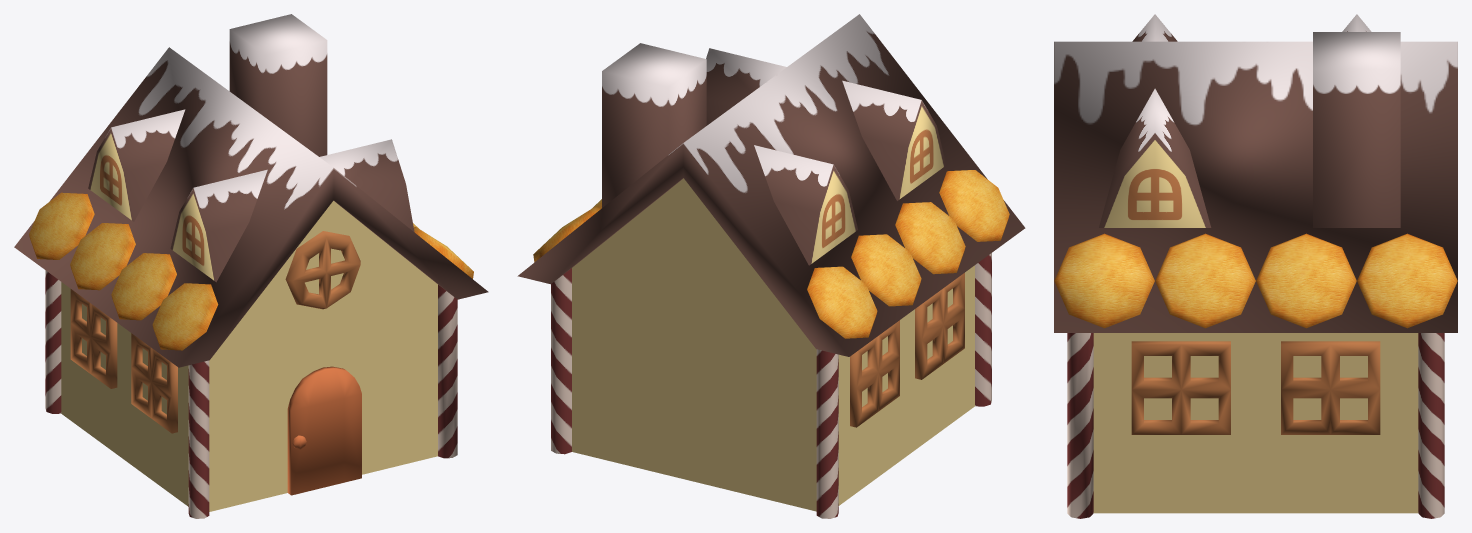
File: House.fbx
3 renders of one model, left to right at view 1: azimuth 30°, elevation 25°; view 2: azimuth 150°, elevation 25°; view 3: azimuth 270°, elevation 25°, orthographic. The views are drawn at different scales.
Parts seen in each view (by area): view 1: House, House_Yane, Entotsu, Door, House_YaneMado_R1, House_YaneMado_R2, Front_Window, House_YaneMado_L1, Hashira_R1, Hashira_L1, Cookie_R1, Cookie_R2 (+6 smaller); view 2: House, House_Yane, Entotsu, House_YaneMado_R1, House_YaneMado_R2, Hashira_R2, Hashira_L2, Cookie_R4, Cookie_R3, Cookie_R2, Cookie_R1, Window_R1 (+4 smaller); view 3: House_Yane, House, Entotsu, House_YaneMado_L1, Window_L1, Window_L2, Cookie_L1, Cookie_L2, Cookie_L3, Cookie_L4, Hashira_L1, Hashira_L2 (+1 smaller).
Part boxes in pixels (left/top/right/bottom): House: left=61, top=201, right=437, bottom=511; House_Yane: left=14, top=47, right=488, bottom=367; Entotsu: left=229, top=14, right=327, bottom=156; Door: left=287, top=366, right=361, bottom=495; House_YaneMado_R1: left=170, top=169, right=267, bottom=282; House_YaneMado_R2: left=88, top=109, right=185, bottom=221; Front_Window: left=285, top=231, right=360, bottom=309; House_YaneMado_L1: left=319, top=139, right=414, bottom=231; Hashira_R1: left=188, top=360, right=209, bottom=518; Hashira_L1: left=438, top=285, right=457, bottom=458; Cookie_R1: left=152, top=283, right=218, bottom=350; Cookie_R2: left=111, top=253, right=176, bottom=320; House: left=572, top=178, right=974, bottom=511; House_Yane: left=517, top=14, right=1025, bottom=356; Entotsu: left=602, top=43, right=706, bottom=207; House_YaneMado_R1: left=842, top=80, right=945, bottom=200; House_YaneMado_R2: left=754, top=145, right=857, bottom=265; Hashira_R2: left=816, top=349, right=838, bottom=518; Hashira_L2: left=551, top=268, right=571, bottom=454; Cookie_R4: left=807, top=266, right=877, bottom=338; Cookie_R3: left=851, top=234, right=921, bottom=306; Cookie_R2: left=895, top=202, right=965, bottom=274; Cookie_R1: left=939, top=170, right=1009, bottom=241; Window_R1: left=915, top=273, right=964, bottom=379; House_Yane: left=1054, top=41, right=1457, bottom=332; House: left=1093, top=333, right=1418, bottom=513; Entotsu: left=1313, top=32, right=1400, bottom=227; House_YaneMado_L1: left=1099, top=88, right=1211, bottom=227; Window_L1: left=1131, top=341, right=1230, bottom=434; Window_L2: left=1281, top=341, right=1380, bottom=434; Cookie_L1: left=1054, top=233, right=1154, bottom=328; Cookie_L2: left=1155, top=233, right=1255, bottom=328; Cookie_L3: left=1256, top=233, right=1356, bottom=328; Cookie_L4: left=1357, top=233, right=1457, bottom=328; Hashira_L1: left=1067, top=333, right=1093, bottom=518; Hashira_L2: left=1418, top=333, right=1444, bottom=518.
Bounding box in the file's own units: 50 × 54 × 46.
